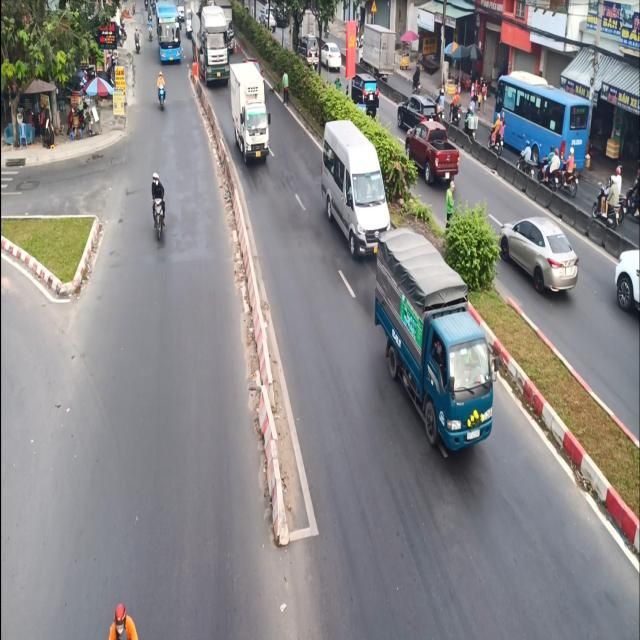bus: (154, 0, 186, 67)
car: (320, 116, 396, 260)
motor: (150, 160, 171, 250), (155, 62, 169, 113)
truck: (374, 226, 504, 480), (228, 63, 271, 174)
